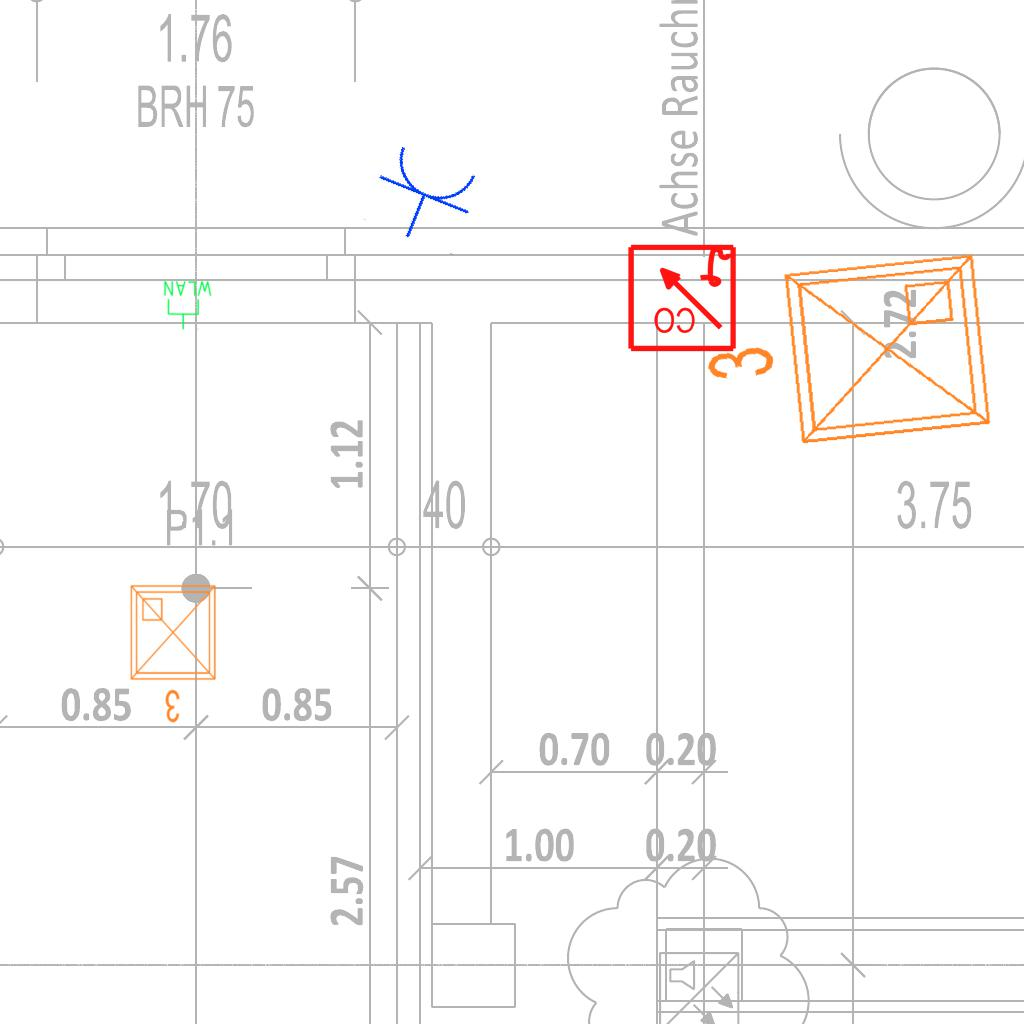Einbaudownlights_LED_Konferenzraeume: (686, 237, 1008, 477), (123, 578, 227, 728)
ROA_Rauchmelder_optisch_mit_Signalgeber_(Sockelsirene): (625, 240, 738, 353)
Schukosteckdose_einfach: (361, 138, 487, 257)
WLAN: (162, 279, 214, 331)
